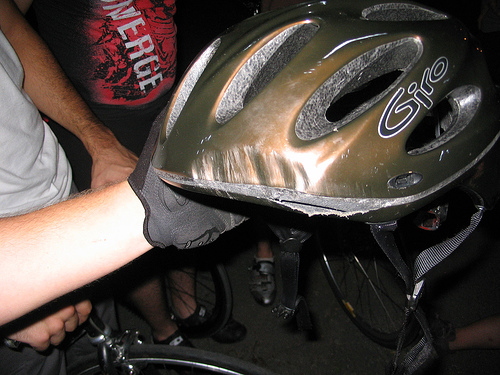helmet: (138, 15, 492, 219)
